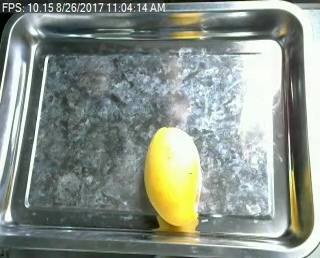Mango: (141, 122, 212, 229)
